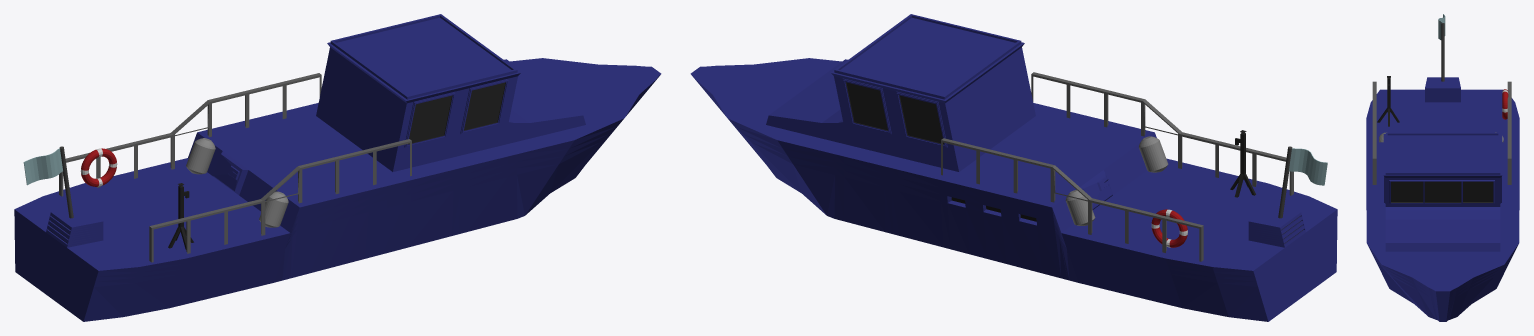
The model's file is blue_boat.glb.
3 views of the same model, side by side, from view 1: azimuth 30°, elevation 25°; view 2: azimuth 150°, elevation 25°; view 3: azimuth 270°, elevation 25° (orthographic). The views are drawn at different scales.
Parts seen in each view (by area): view 1: Boat, Cube_004, Cube_002, Cylinder_002, Torus, Cylinder, Cylinder_001, Cube_001; view 2: Boat, Cube_002, Cube_004, Cylinder_002, Cylinder_001, Torus, Cylinder, Cube_001; view 3: Boat, Cube_004, Cube_002, Cylinder_002, Cube_001, Torus.
Boxes of the visible parts, x1,y1,x2,y2 form: Boat: (14,14,661,321); Cube_004: (149,139,411,262); Cube_002: (59,73,321,196); Cylinder_002: (23,146,73,218); Torus: (80,148,117,186); Cylinder: (186,138,215,174); Cylinder_001: (259,191,288,227); Cube_001: (168,183,193,249); Boat: (690,14,1337,321); Cube_002: (941,138,1203,261); Cube_004: (1031,72,1293,195); Cylinder_002: (1278,146,1327,218); Cylinder_001: (1139,136,1168,172); Torus: (1151,209,1187,247); Cylinder: (1065,190,1095,225); Cube_001: (1230,130,1255,197); Boat: (1366,77,1519,321); Cube_004: (1372,81,1376,184); Cube_002: (1507,81,1511,184); Cylinder_002: (1438,14,1445,81); Cube_001: (1377,76,1399,126); Torus: (1502,89,1508,119).
Bounding box in the file's own units: 7.11 × 1.61 × 2.
